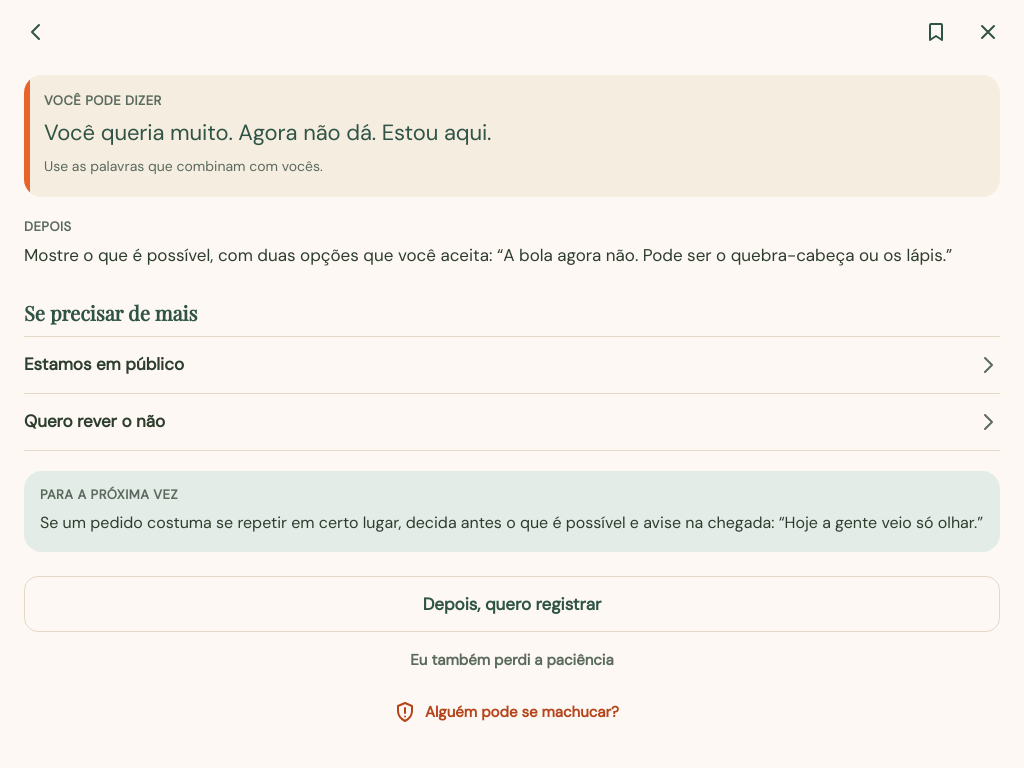
Scenario: ajuda na hora da birra › "Eu também perdi a paciência" é entrada secundária: fora da Home, volta à mesma orientação e leva à segurança
The width and height of the screenshot is (1024, 768).
(page scrolled)
Click the link "Eu também perdi a paciência" at (512, 660), box [410, 650, 614, 670]
(page scrolled)
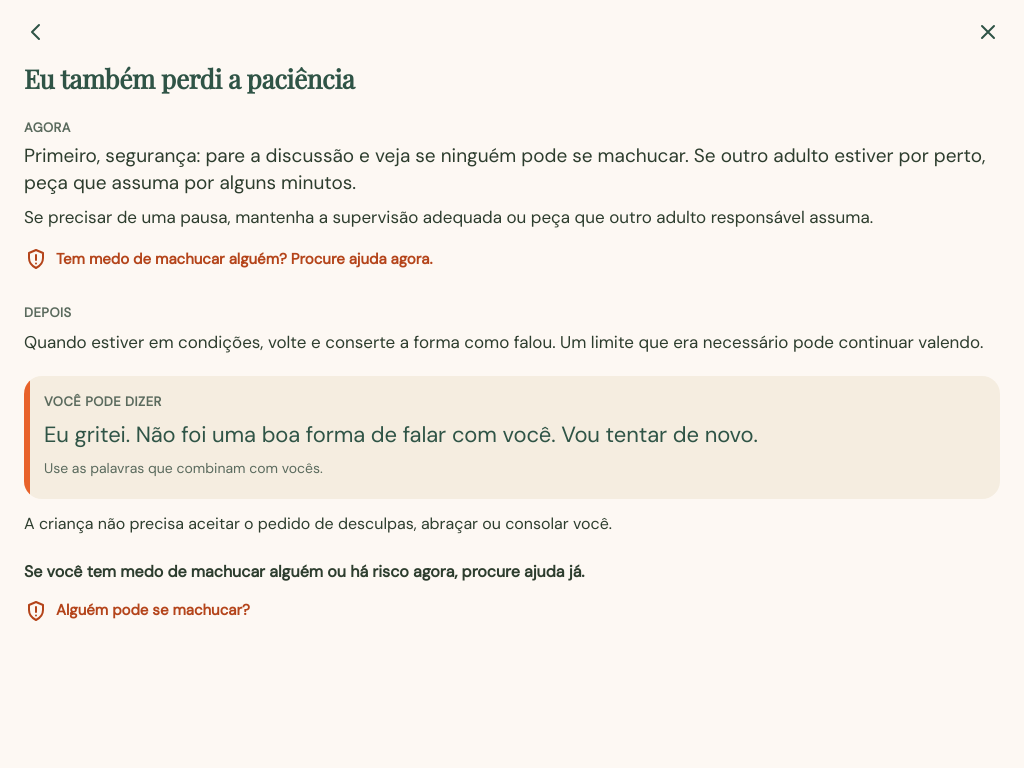
Expected: the heading "Eu também perdi a paciência" is shown, [24, 61, 354, 96]
Click the button named "Voltar" at (36, 32), box [12, 8, 60, 56]
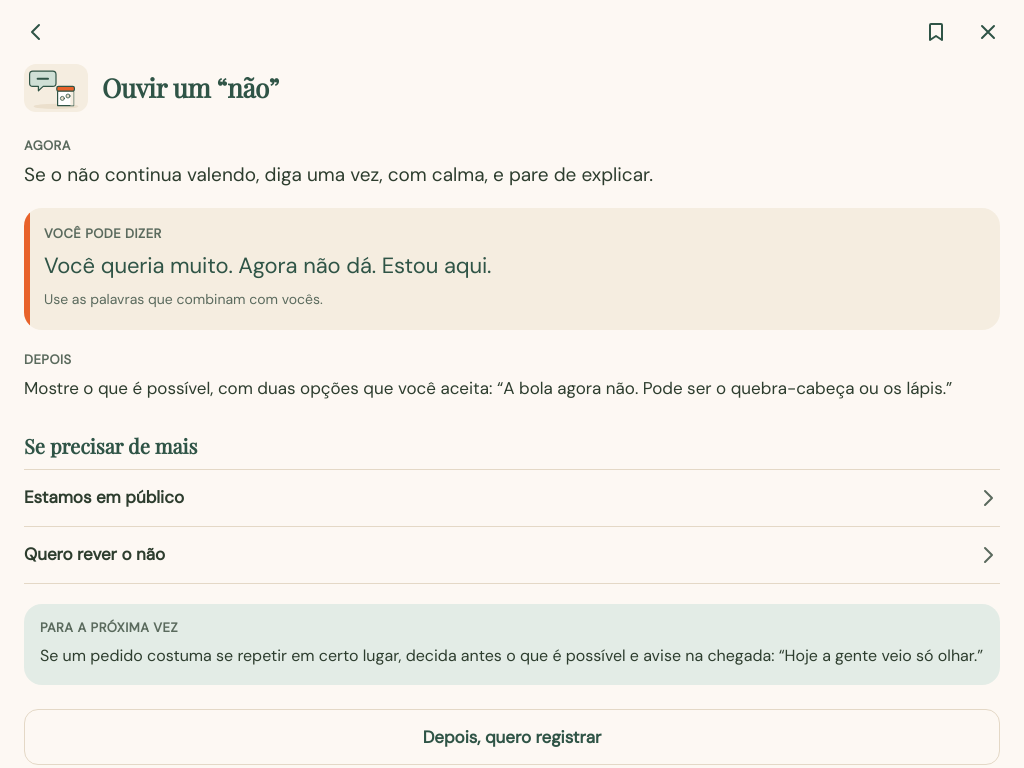
Expected: the heading "Ouvir um “não”" is shown, [102, 73, 279, 103]
